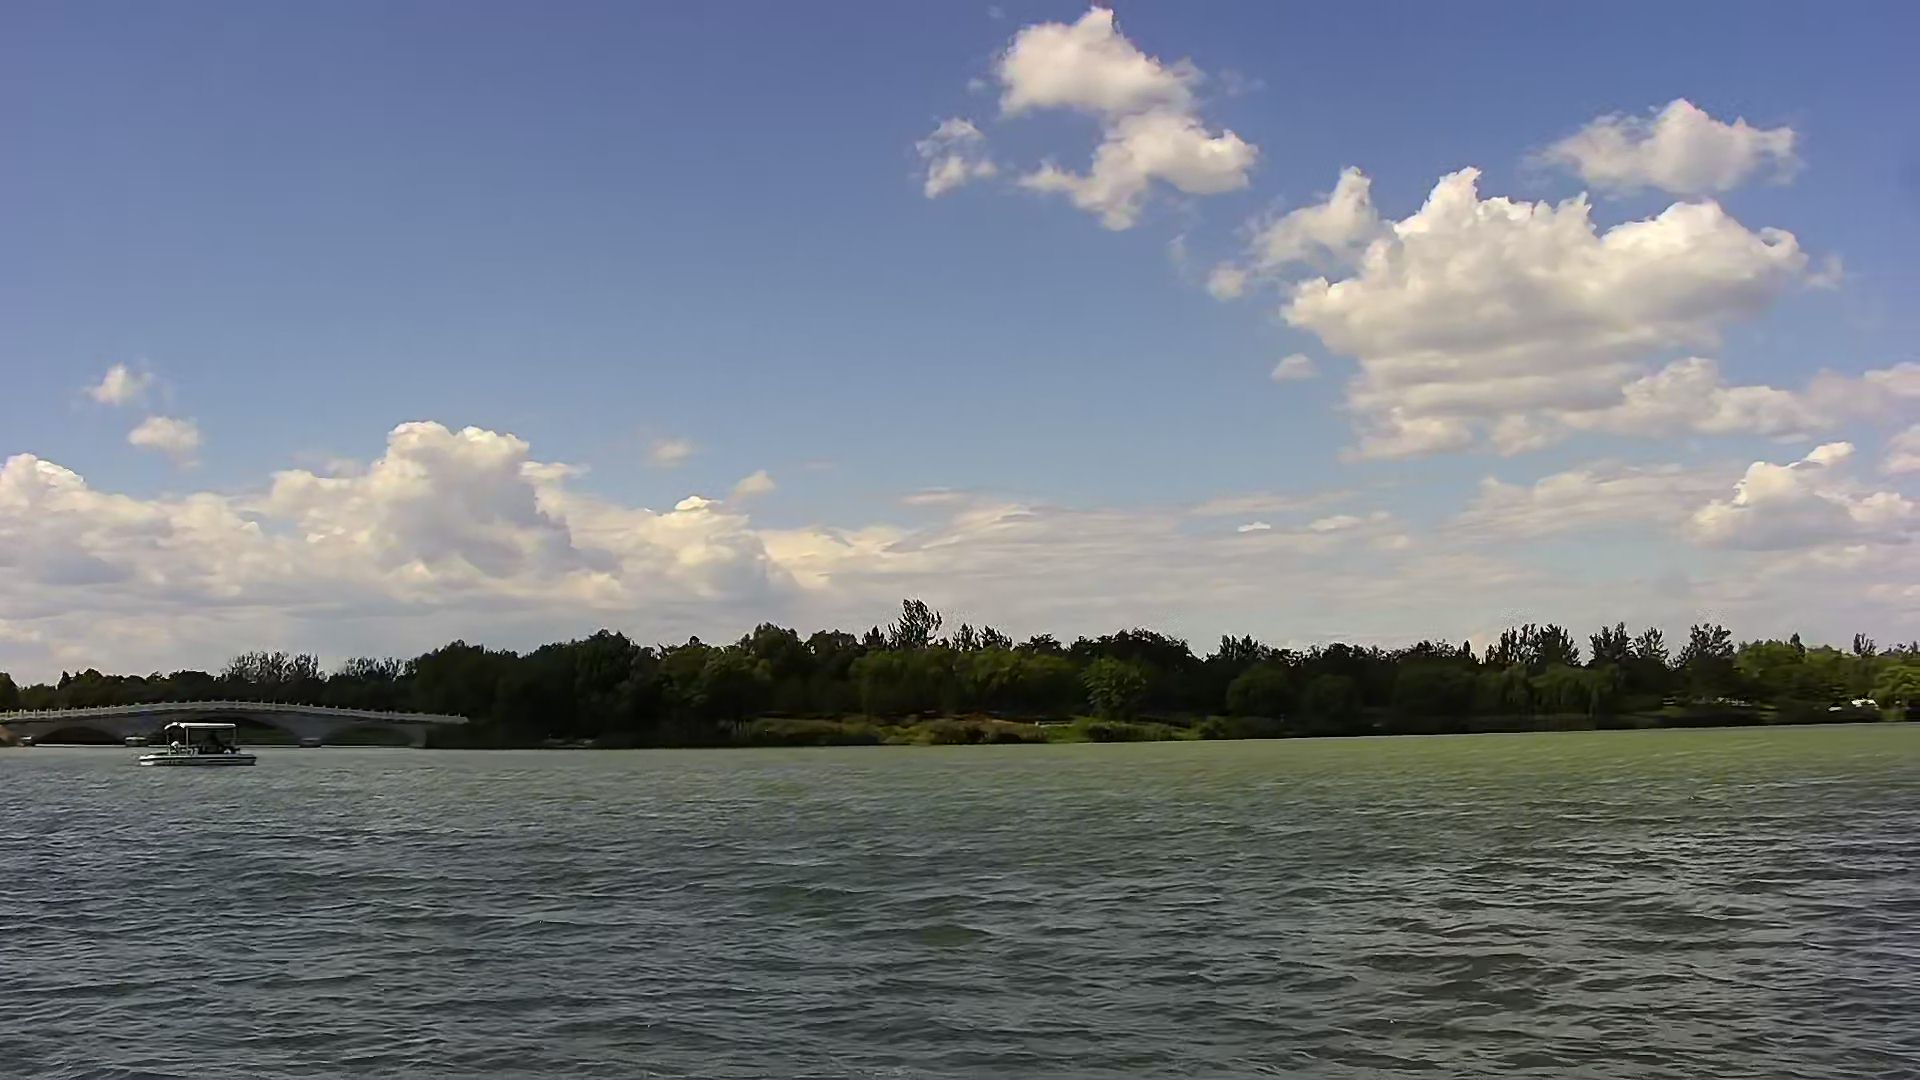boat: (142, 721, 245, 769)
bridge: (7, 698, 477, 748)
